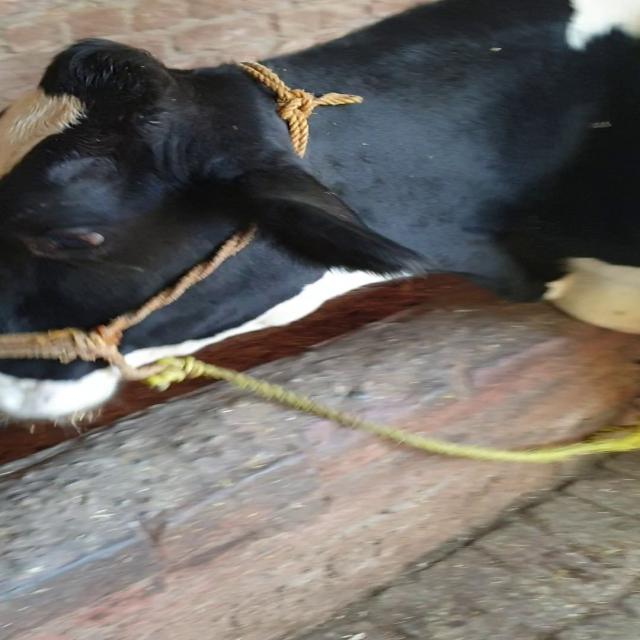cowFace: (0, 44, 200, 436)
